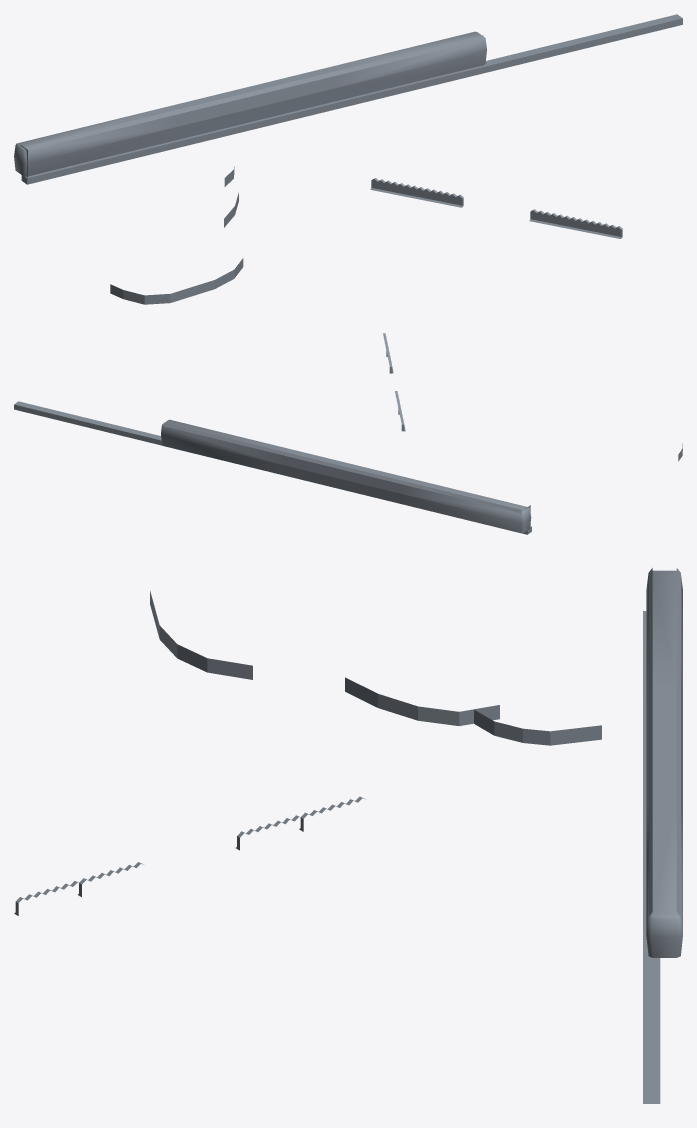
File: gltf__Models__map__Village__startup__v_startup_mergedFence.glb
3 renders of one model, top to bottom at view 1: azimuth 30°, elevation 25°; view 2: azimuth 150°, elevation 25°; view 3: azimuth 270°, elevation 25°, orthographic. The views are drawn at different scales.
Parts seen in each view (by area): view 1: v_startup_mergedFence; view 2: v_startup_mergedFence; view 3: v_startup_mergedFence.
Part boxes in pixels (bbox=[...]): v_startup_mergedFence: bbox=[14, 14, 682, 304]; v_startup_mergedFence: bbox=[14, 333, 682, 534]; v_startup_mergedFence: bbox=[14, 568, 682, 1103].
Size of the model in its own units: 8.3 by 0.3955 by 4.41.
Materials: 1 (1 with a texture image).
